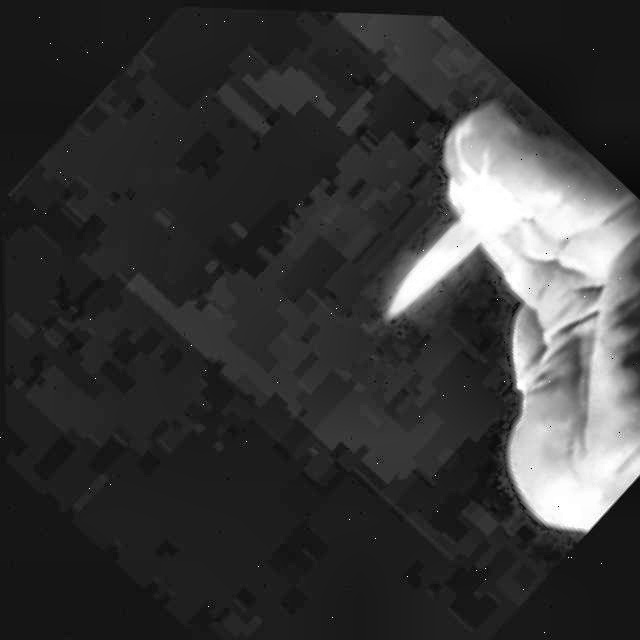Fire: (359, 160, 527, 340)
